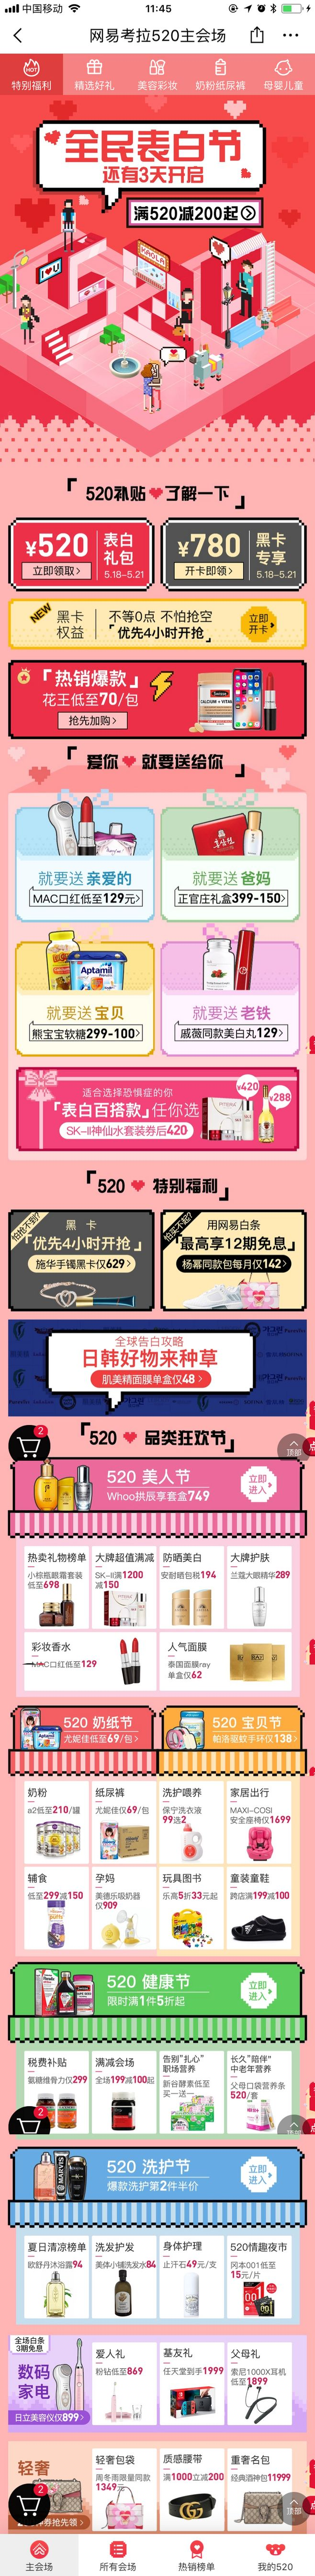floors: (0, 1421, 315, 2326), (0, 744, 315, 1163), (0, 475, 315, 743), (0, 1168, 315, 1418), (0, 2331, 315, 2533)
toutu: (0, 94, 315, 463)
